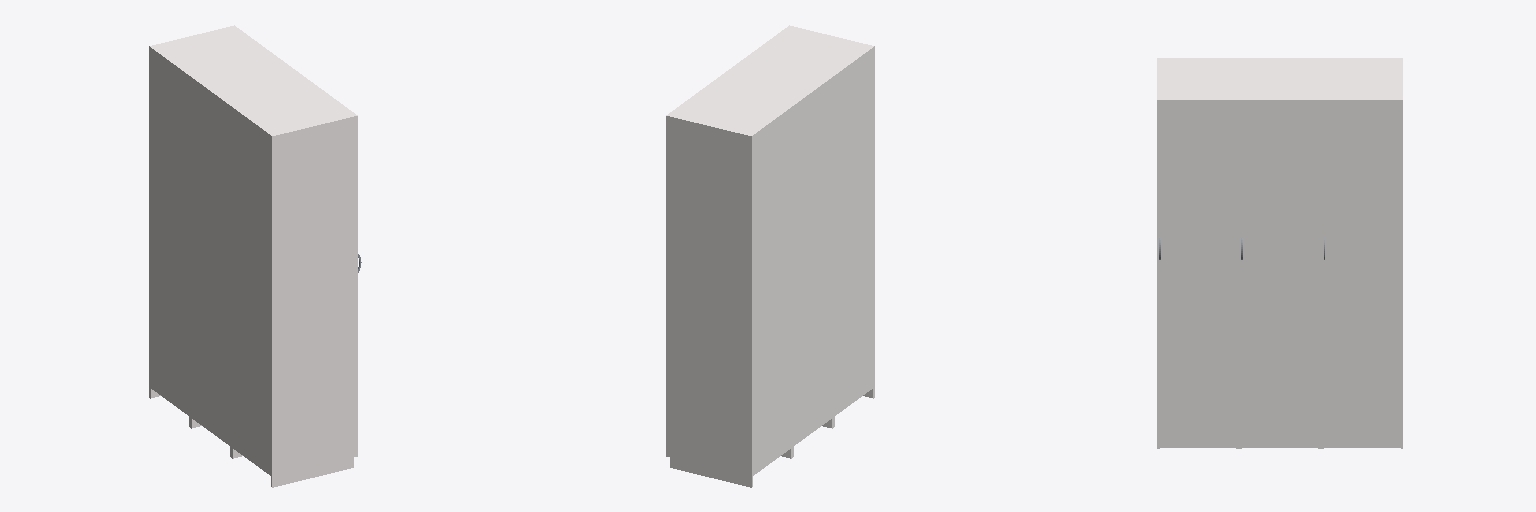
The picture shows the model from 3 angles: view 1: azimuth 30°, elevation 25°; view 2: azimuth 150°, elevation 25°; view 3: azimuth 270°, elevation 25°; orthographic projection.
Visible parts, largest first — view 1: Mesh2 IKEA_PAX_cabinet1 Model, Mesh6 IKEA_PAX_cabinet3 Model, Mesh4 IKEA_PAX_cabinet2 Model; view 2: Mesh6 IKEA_PAX_cabinet3 Model, Mesh4 IKEA_PAX_cabinet2 Model, Mesh2 IKEA_PAX_cabinet1 Model; view 3: Mesh6 IKEA_PAX_cabinet3 Model, Mesh2 IKEA_PAX_cabinet1 Model, Mesh4 IKEA_PAX_cabinet2 Model.
Part boxes in pixels (x1,y1,x2,y2): Mesh2 IKEA_PAX_cabinet1 Model: (231, 86, 357, 487); Mesh6 IKEA_PAX_cabinet3 Model: (149, 25, 275, 426); Mesh4 IKEA_PAX_cabinet2 Model: (190, 56, 316, 456); Mesh6 IKEA_PAX_cabinet3 Model: (666, 86, 792, 487); Mesh4 IKEA_PAX_cabinet2 Model: (707, 56, 833, 456); Mesh2 IKEA_PAX_cabinet1 Model: (748, 25, 874, 426); Mesh6 IKEA_PAX_cabinet3 Model: (1321, 58, 1402, 448); Mesh2 IKEA_PAX_cabinet1 Model: (1157, 58, 1238, 448); Mesh4 IKEA_PAX_cabinet2 Model: (1239, 58, 1320, 448).
Bounding box in the file's own units: 635 × 2360 × 1500.
Materials: 2 (1 with a texture image).